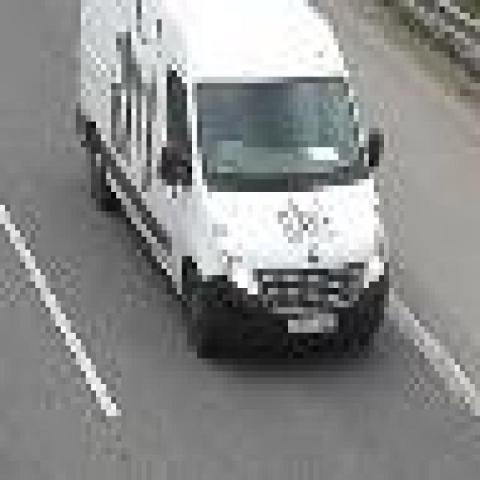van: (79, 0, 392, 358)
